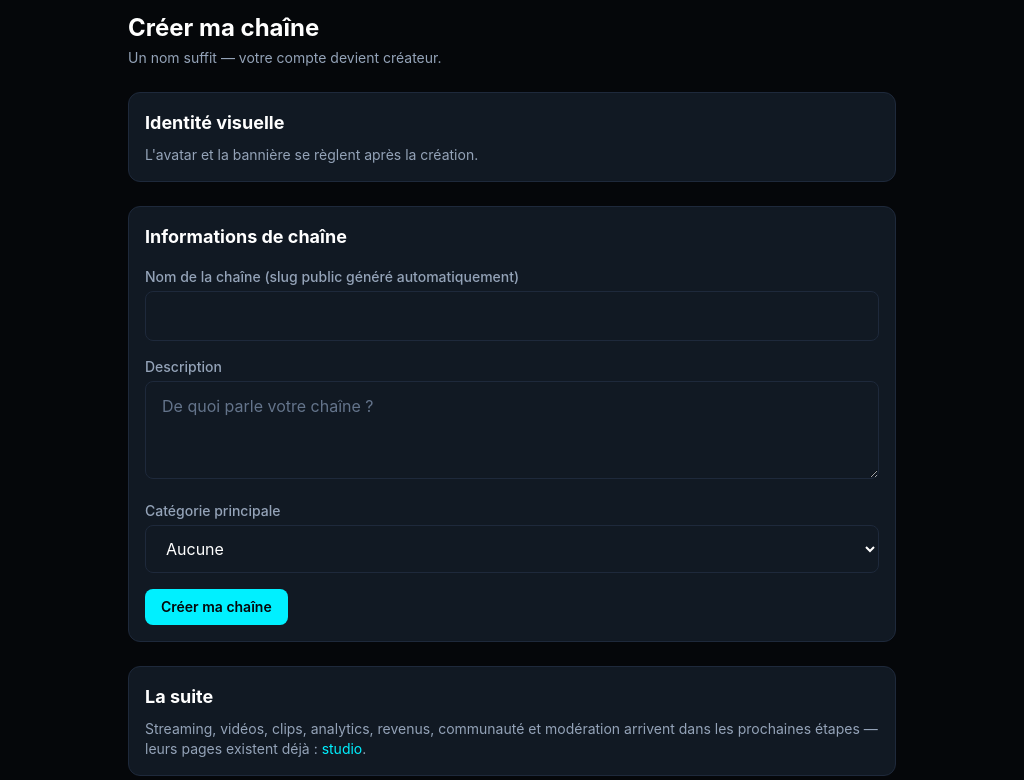
Test: CreatorSettings › nom vide → erreur locale, aucun appel
Check: the heading "Créer ma chaîne" is shown, box [128,13,319,42]
Click the button "Créer ma chaîne" at point(216, 607), box [145,589,288,625]
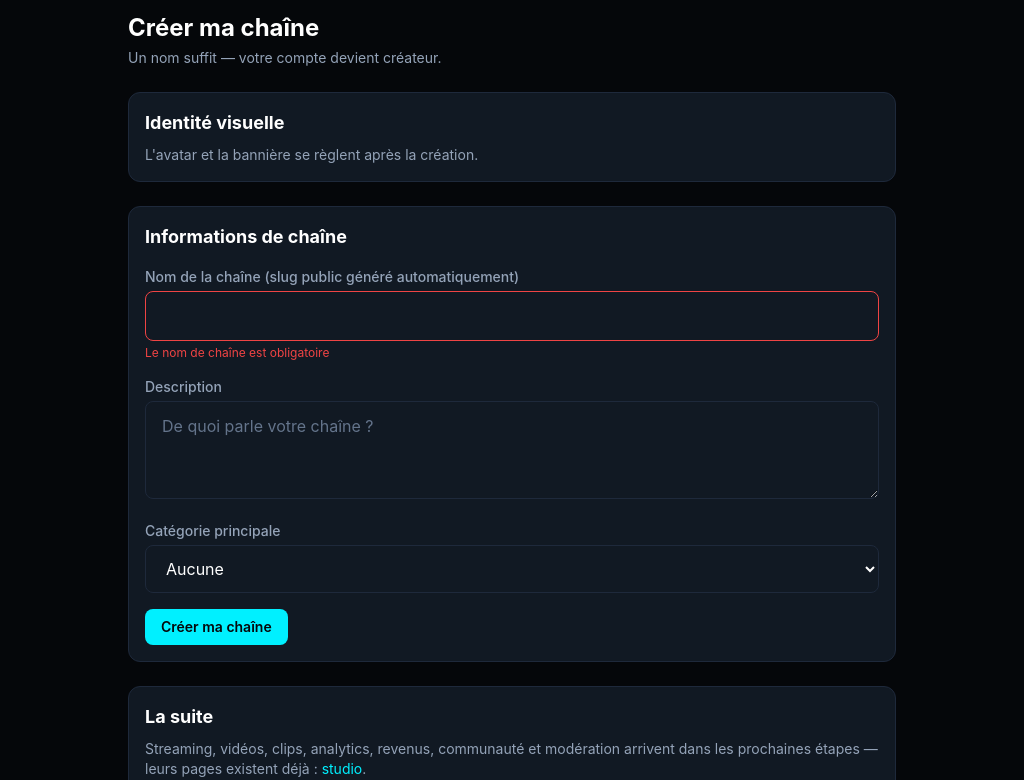
Check: the text "Le nom de chaîne est obligatoire" is shown, box [145,345,329,360]
